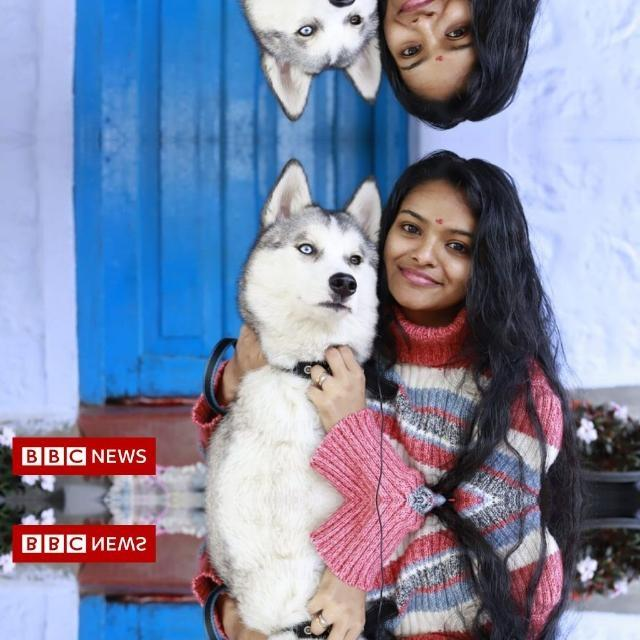dog: (241, 152, 383, 364), (241, 0, 383, 127), (241, 636, 383, 640)
